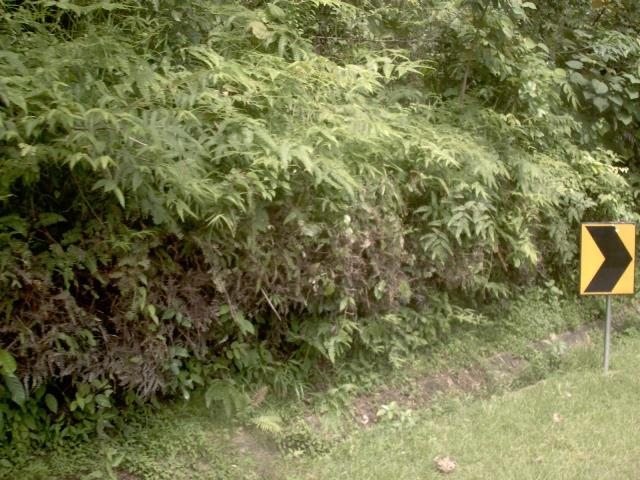traffic_sign: (569, 212, 640, 307)
